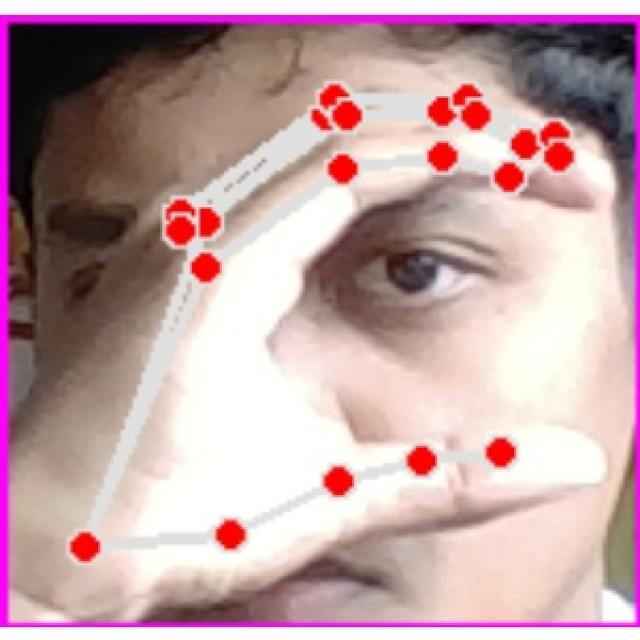C: (30, 79, 616, 608)
